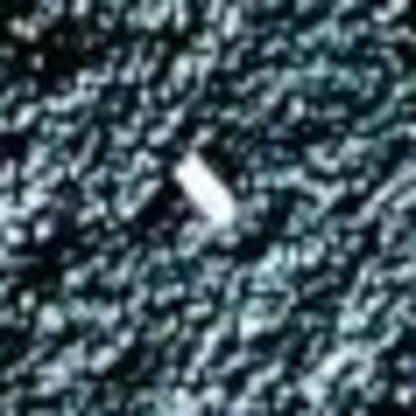ship: (162, 141, 258, 235)
